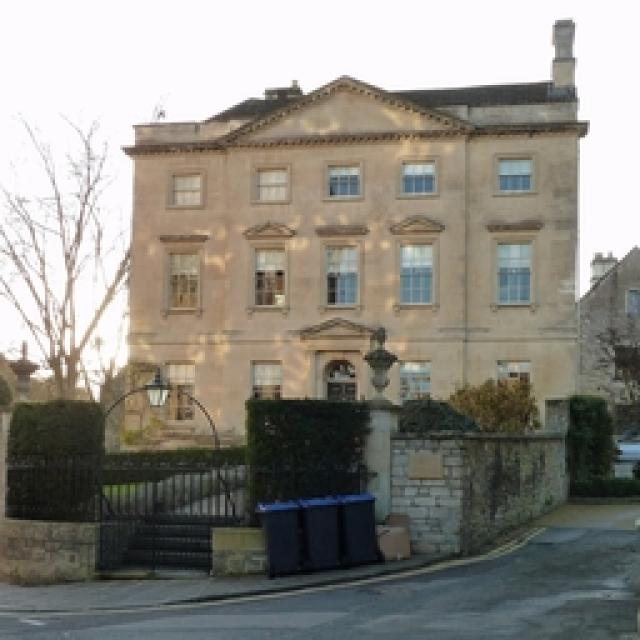Abbey: (119, 16, 591, 451)
